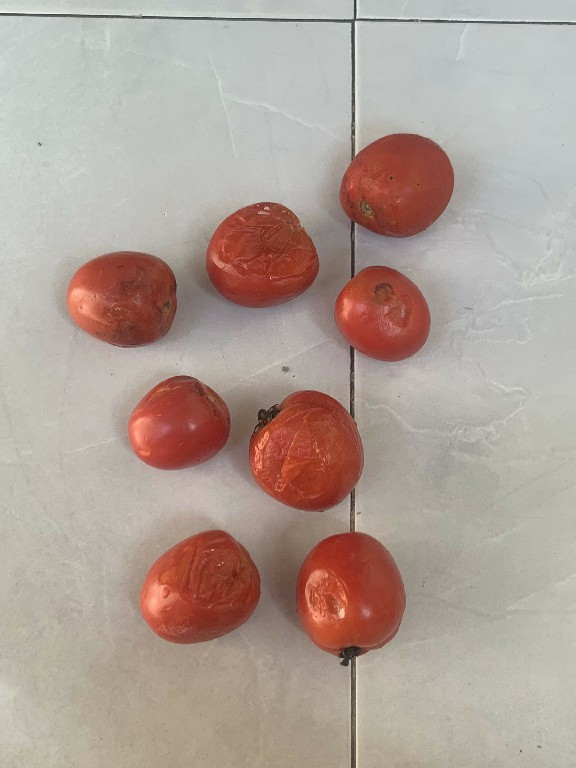NG: (129, 521, 278, 652), (247, 381, 365, 522), (291, 528, 408, 668), (60, 236, 186, 354), (123, 368, 239, 481), (205, 202, 326, 307), (332, 262, 439, 366)
OK: (337, 128, 465, 247)
